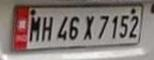1: (111, 14, 119, 40)
2: (128, 13, 139, 42)
4: (56, 13, 68, 42)
5: (119, 13, 129, 41)
6: (69, 14, 80, 42)
7: (96, 12, 110, 42)
H: (41, 15, 53, 43)
M: (29, 15, 41, 42)
X: (84, 12, 93, 42)
